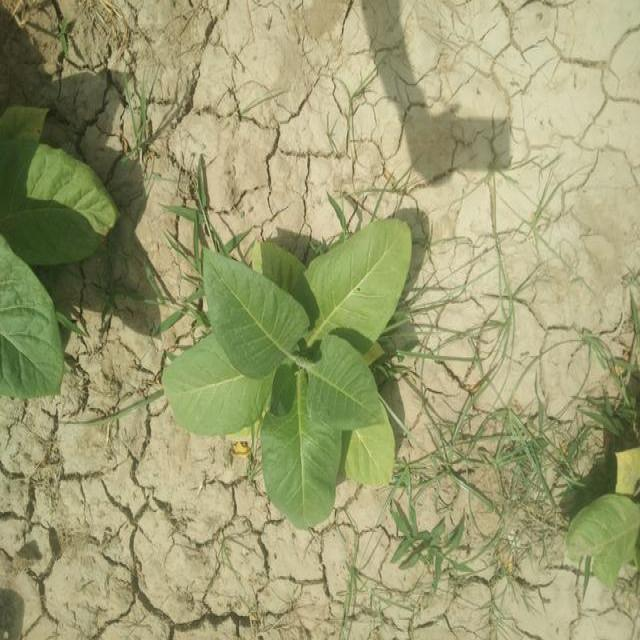crop: (162, 213, 417, 529)
